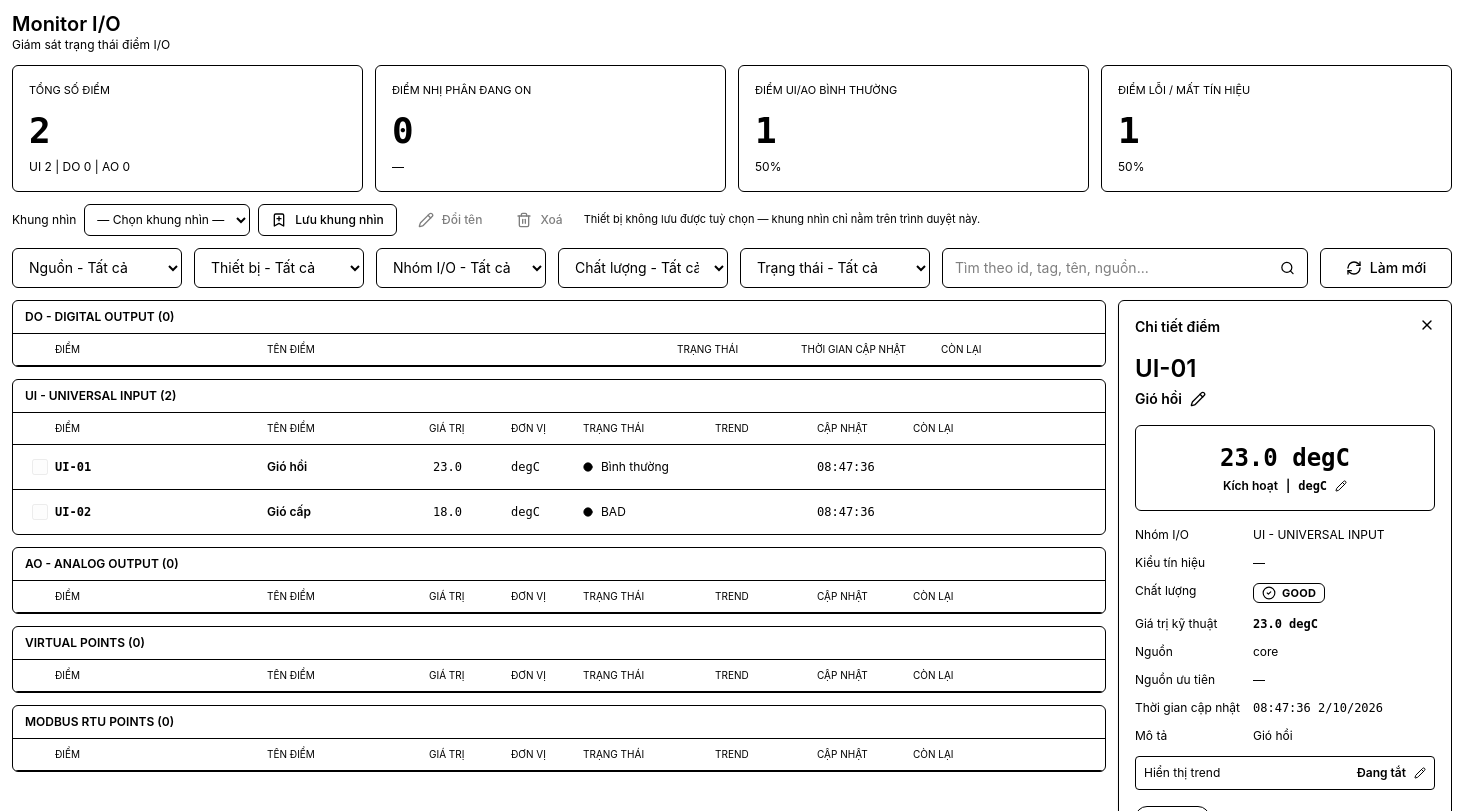
T57-2.3 — khung nhìn đặt tên trên Giám sát › chọn khung nhìn trong danh sách áp lại bộ lọc đã lưu
This screenshot has width=1464, height=811.
Select "Chỉ điểm hỏng" in the dropdown named "Khung nhìn đã lưu". click: (167, 220)
box: [84,204,250,236]
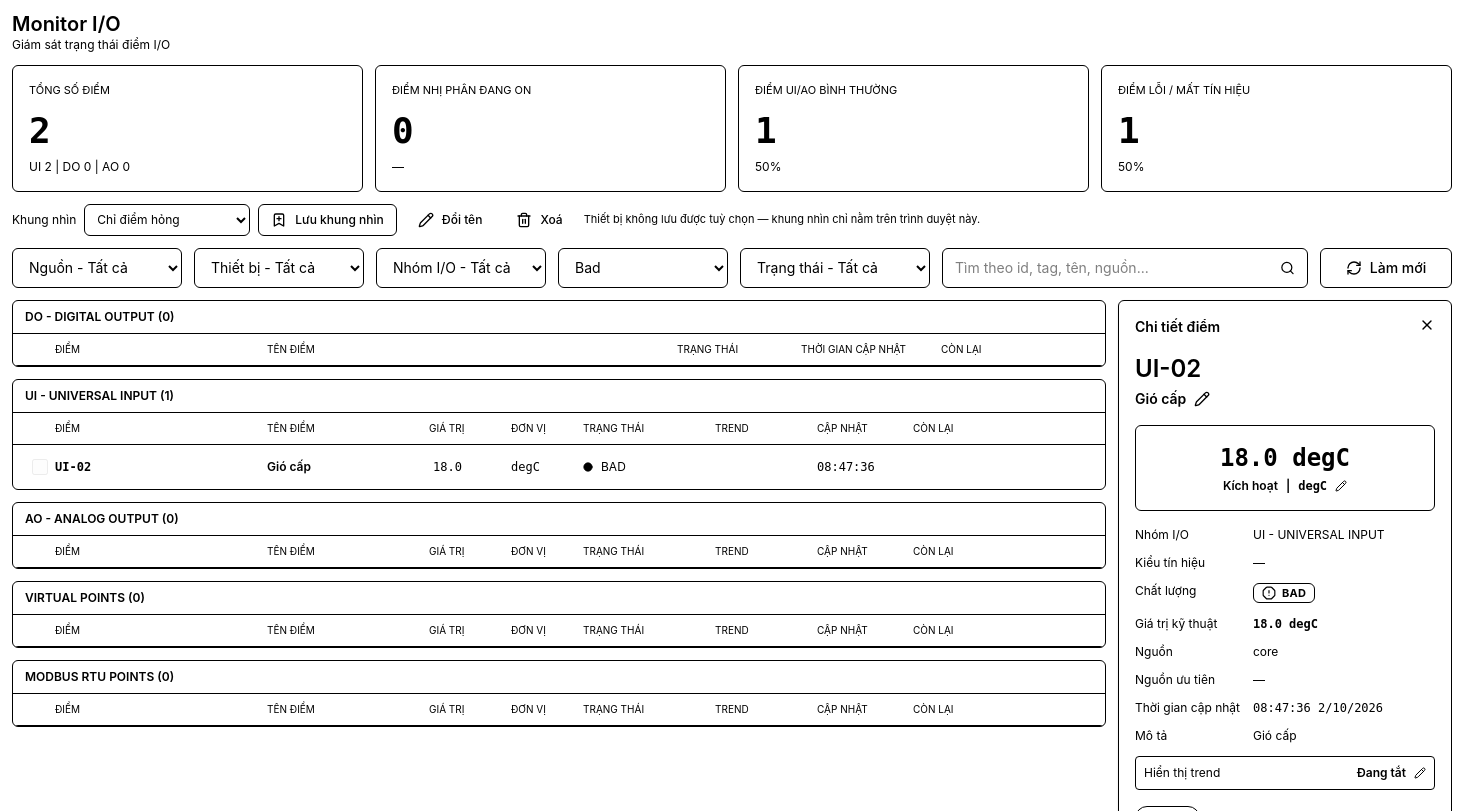
Expected: the dropdown named "Lọc theo chất lượng" shows "Bad", [558,248,728,288]
